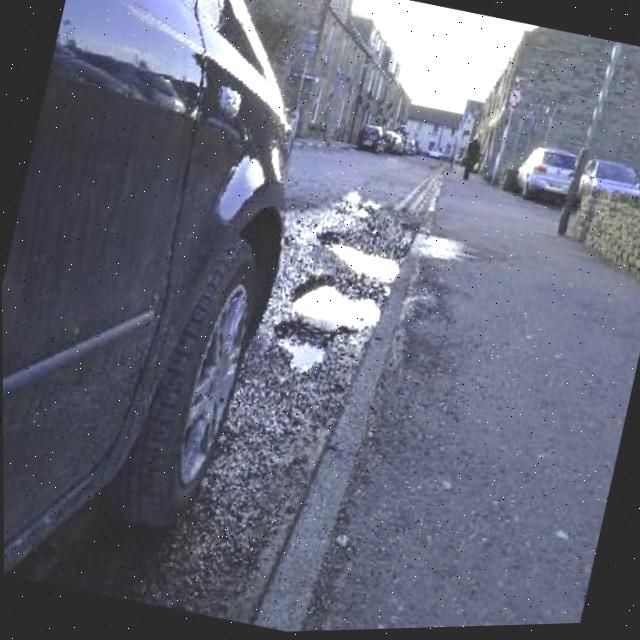Pothole: (308, 222, 410, 293), (287, 269, 388, 340), (266, 318, 337, 381)
